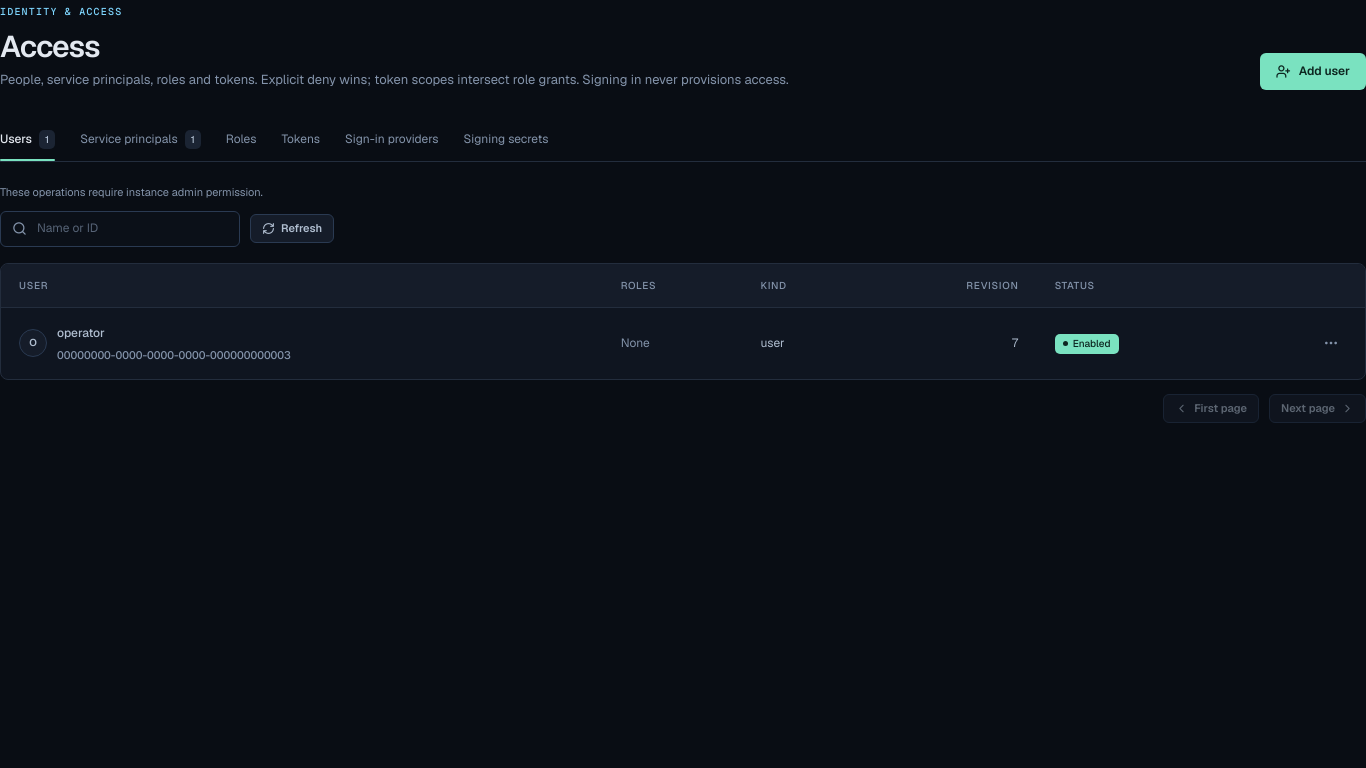
it: shows file providers read-only, stored providers with status, and never a secret
Expected: the text "operator" is shown, [57, 325, 105, 341]
Click the tab "Sign-in providers" at (392, 139), box [345, 118, 438, 160]
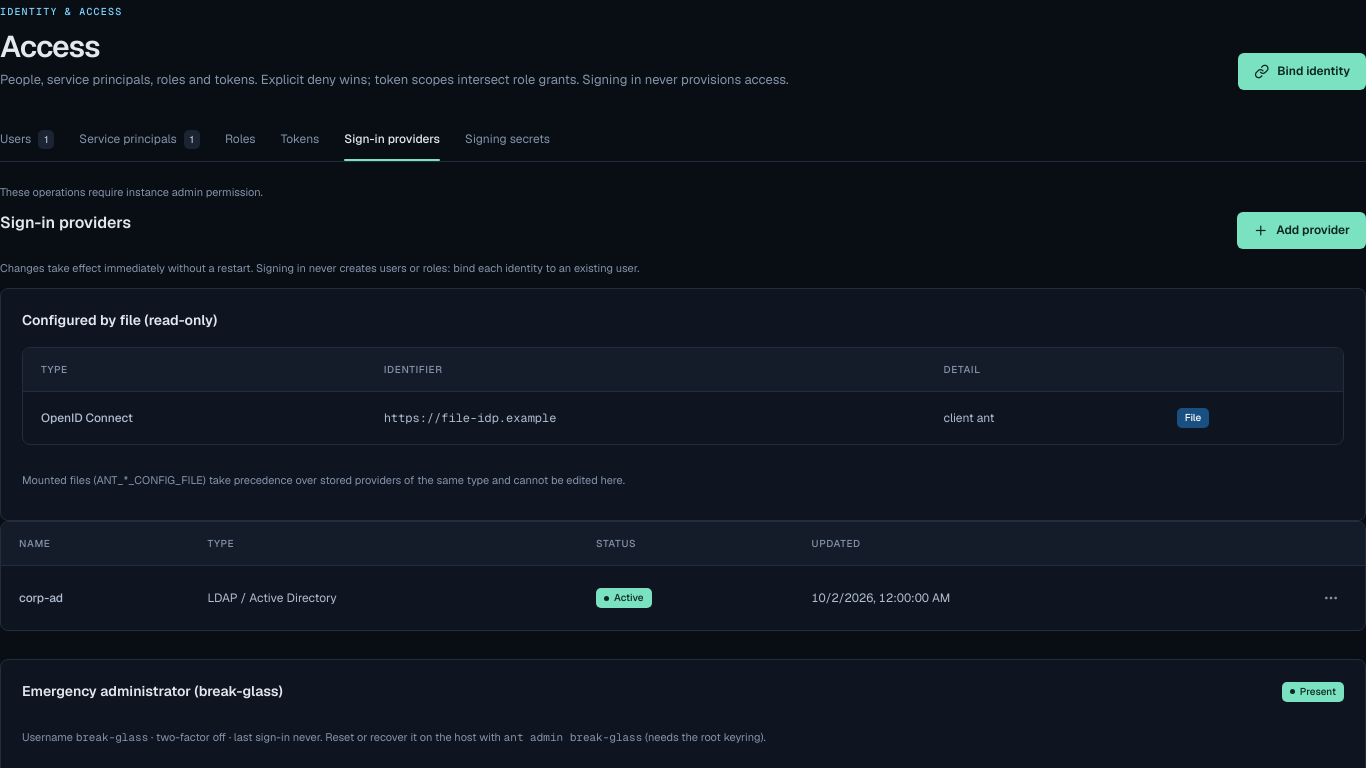
Result: the text "corp-ad" is shown at [1, 566, 190, 630]
Result: the text "https://file-idp.example" is shown at [366, 391, 925, 444]
Result: the text "File" is shown at [1177, 408, 1209, 428]
